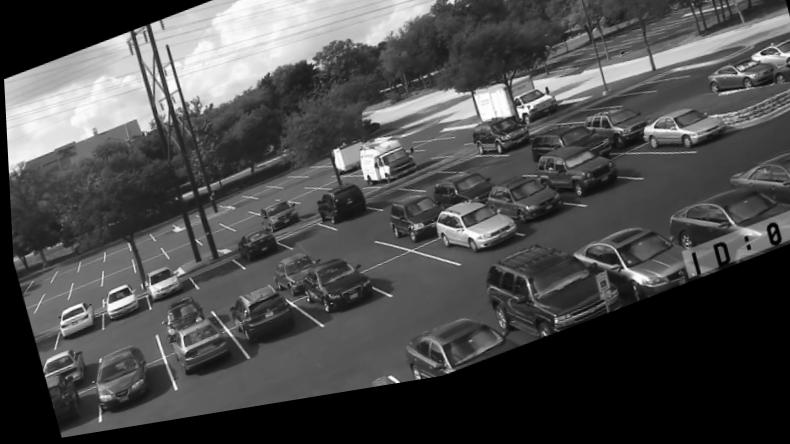empty: (361, 261, 457, 306), (279, 375, 393, 410), (608, 170, 690, 202), (185, 263, 245, 299), (98, 324, 148, 356), (333, 248, 387, 276), (209, 287, 253, 318), (399, 182, 453, 206), (278, 234, 329, 258), (615, 97, 682, 115), (366, 196, 411, 218), (443, 169, 501, 186), (99, 268, 133, 292), (159, 247, 201, 266), (193, 234, 236, 252), (67, 280, 100, 302), (34, 292, 66, 314), (494, 176, 535, 193), (183, 227, 221, 245), (26, 311, 57, 333), (131, 259, 165, 279), (289, 198, 328, 215), (130, 248, 162, 268), (553, 128, 599, 141), (214, 215, 249, 232), (100, 258, 129, 278), (591, 116, 648, 126), (69, 270, 99, 289), (123, 237, 154, 255), (401, 153, 447, 165), (273, 192, 307, 208), (31, 333, 55, 355), (224, 222, 257, 238), (157, 239, 190, 255), (145, 229, 176, 246), (241, 205, 275, 220), (295, 208, 321, 227), (65, 292, 95, 308), (319, 186, 358, 198), (103, 244, 126, 264), (301, 183, 335, 196), (41, 282, 69, 297), (216, 202, 251, 214), (29, 273, 50, 291), (78, 254, 100, 271), (53, 265, 74, 282), (246, 194, 278, 205), (220, 241, 242, 257), (271, 185, 301, 196), (294, 177, 325, 186), (19, 292, 41, 304), (16, 280, 29, 294), (22, 302, 35, 315)
occupied: (477, 262, 625, 357), (566, 247, 713, 317), (385, 327, 517, 392), (667, 213, 790, 278), (427, 215, 515, 274), (224, 293, 299, 352), (534, 165, 614, 218), (483, 191, 565, 242), (299, 268, 373, 323), (164, 320, 230, 380), (92, 348, 148, 415), (641, 133, 725, 171), (727, 173, 790, 223), (470, 129, 528, 174), (358, 151, 414, 196), (422, 187, 490, 224), (313, 195, 367, 241), (584, 129, 646, 169), (386, 210, 439, 256), (705, 82, 773, 117), (531, 144, 600, 175), (41, 376, 78, 430), (271, 262, 313, 307), (233, 236, 275, 271), (55, 304, 91, 342), (142, 273, 179, 305), (258, 211, 296, 242), (39, 352, 78, 380), (102, 290, 135, 323), (164, 305, 195, 335), (772, 86, 790, 110)
